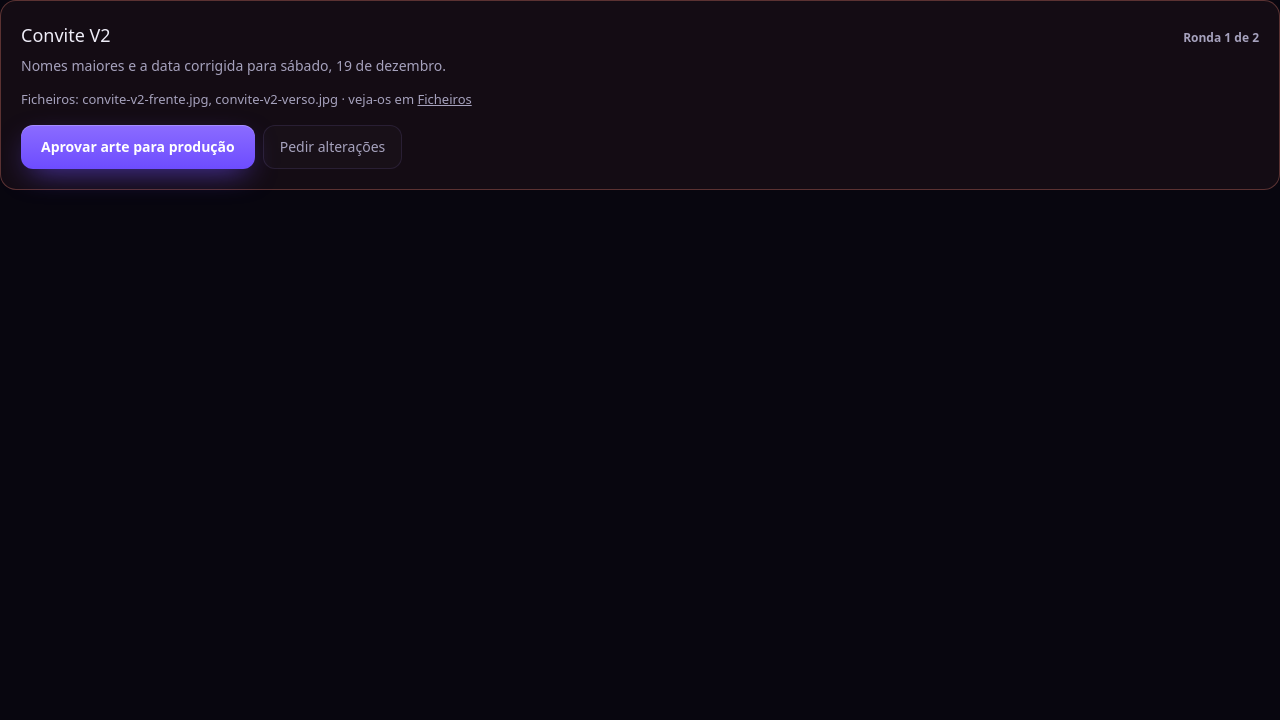
Test case: Depois de aprovar a arte › o cartão não volta a mostrar os botões enquanto a página se atualiza (sem 2.º clique)
Click the button "Aprovar arte para produção": (138, 147) [21,125,255,169]
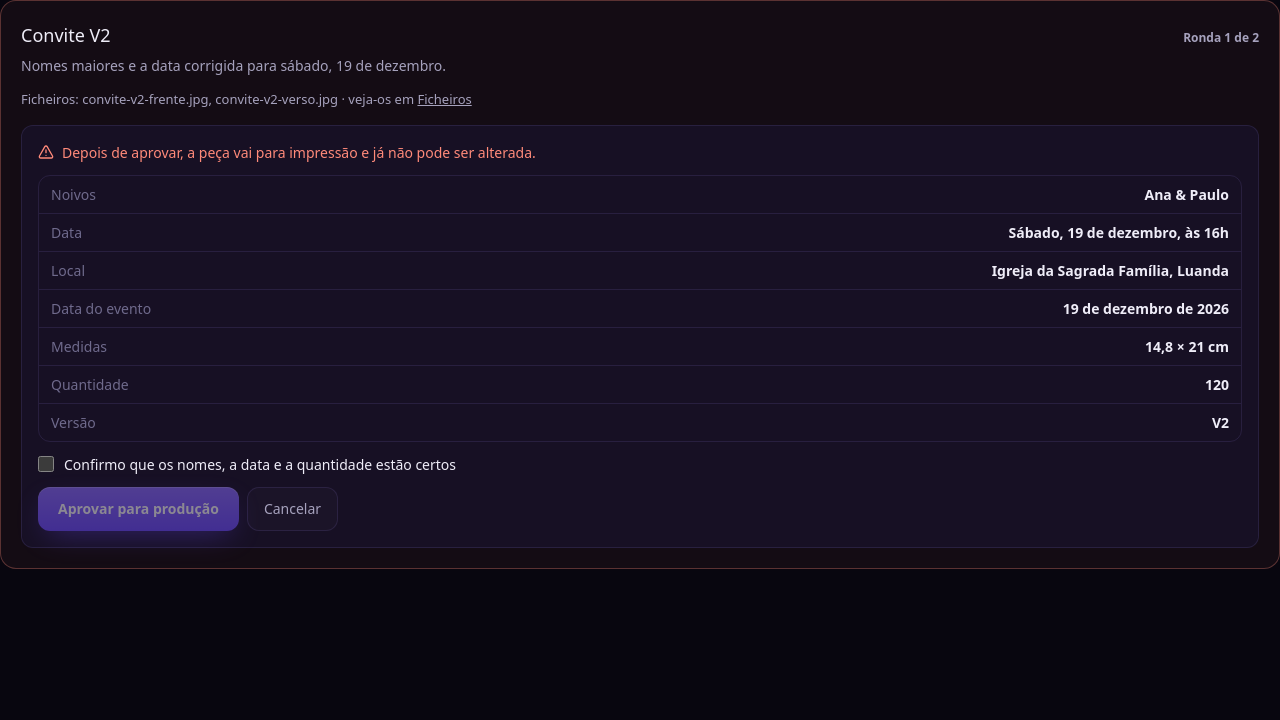
Click the checkbox labelled "Confirmo que os nomes, a data e a quantidade estão certos": (46, 464) [38,456,54,472]
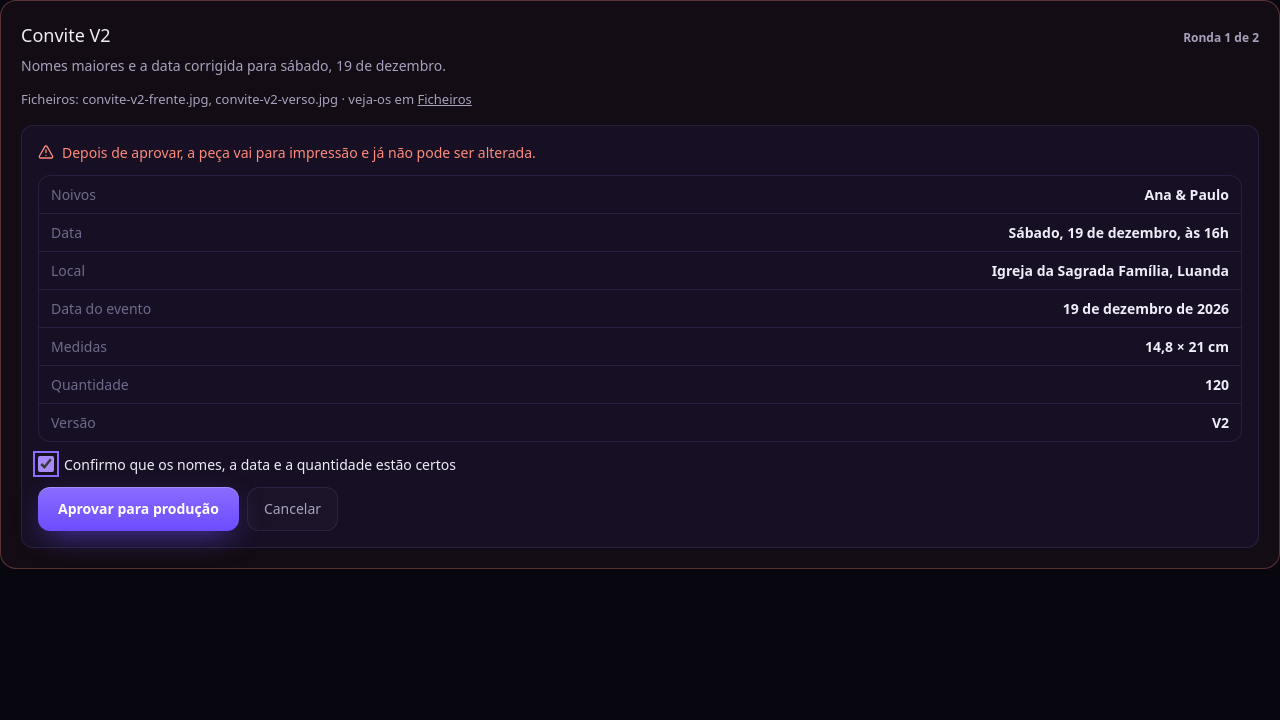
Click the button "Aprovar para produção": (138, 509) [38,487,239,531]
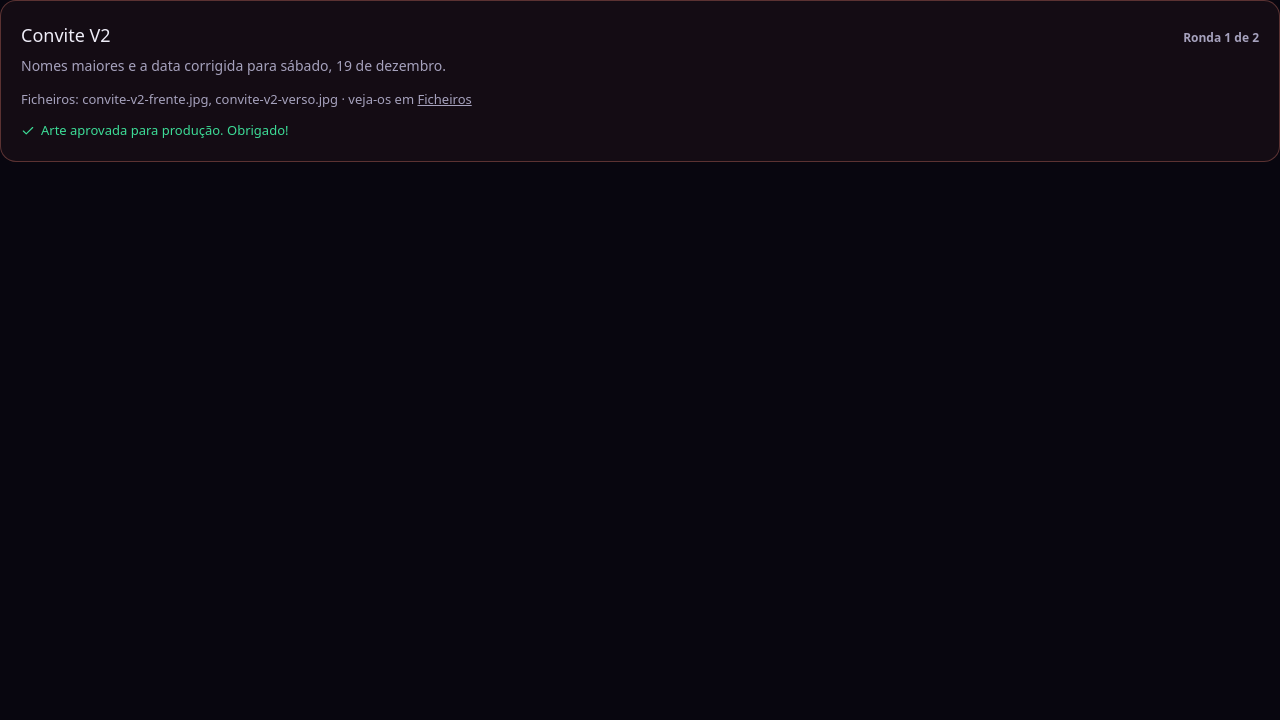
Expected: the button "Aprovar arte para produção" is not shown
Result: the message shows "Arte aprovada para produção" at [41,121,288,139]
Result: the button "Aprovar para produção" is gone
